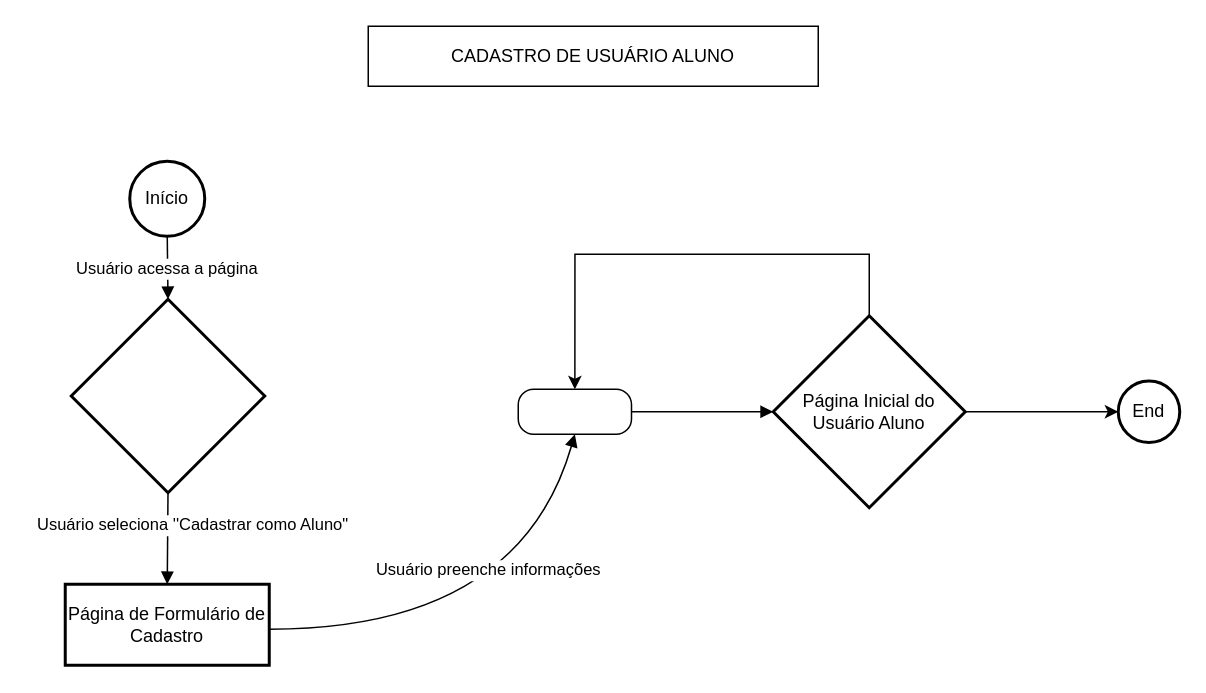
This 1206x693 diagram has some shape labels left out. Here are the shapes that lost their labels. From the top down, the centre of each, then its label:
At (167,395): "Homepage".
At (574,411): "Validação".
